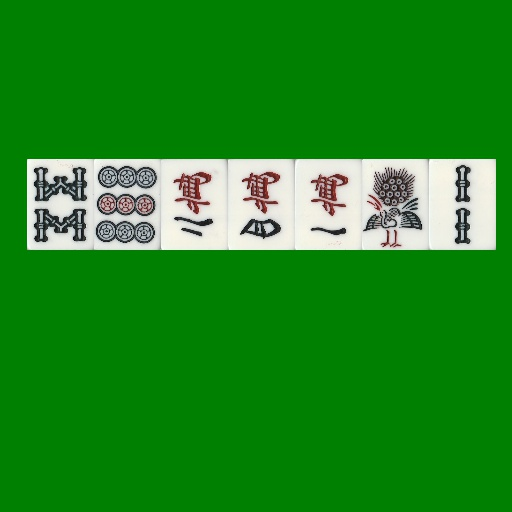1m: (295, 159, 362, 250)
1s: (362, 159, 429, 250)
2m: (161, 159, 228, 250)
2s: (429, 159, 496, 250)
4m: (228, 159, 295, 250)
8s: (27, 159, 94, 250)
9p: (94, 159, 161, 250)
